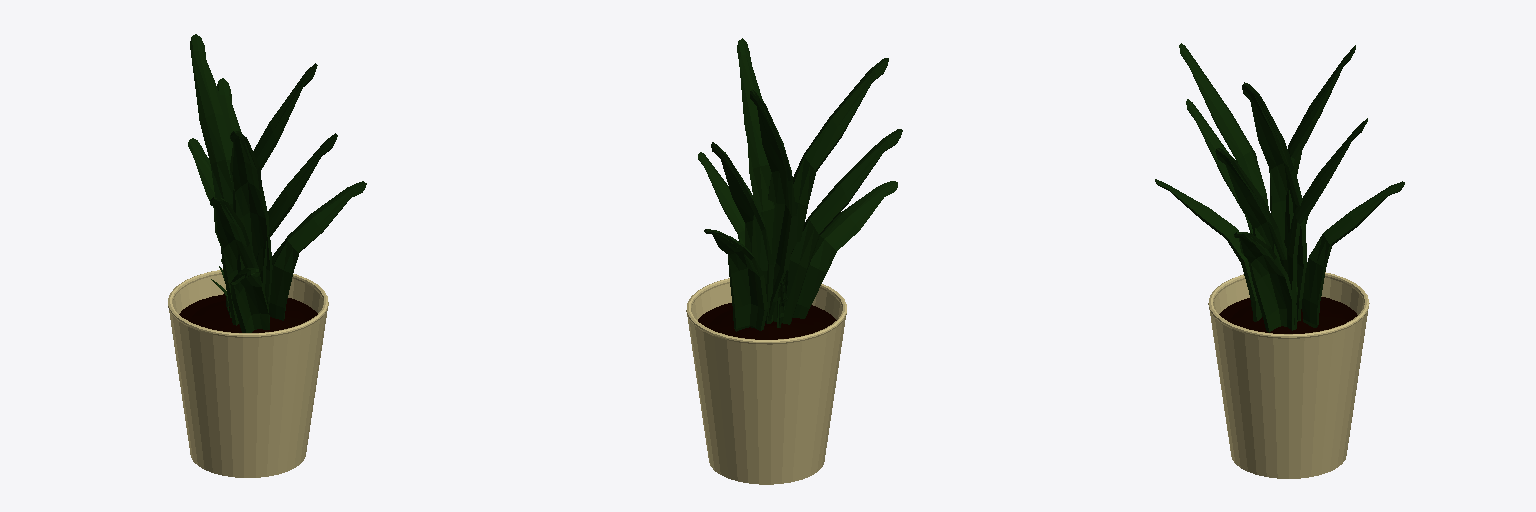
Rendered from PLANT.obj.
The picture shows the model from 3 angles: view 1: azimuth 30°, elevation 25°; view 2: azimuth 150°, elevation 25°; view 3: azimuth 270°, elevation 25°; orthographic projection.
Visible parts, largest first — view 1: Cube.003_Cube.040; view 2: Cube.003_Cube.040; view 3: Cube.003_Cube.040.
Part boxes in pixels (left/top/right/bottom): Cube.003_Cube.040: left=168, top=34, right=366, bottom=477; Cube.003_Cube.040: left=686, top=38, right=902, bottom=484; Cube.003_Cube.040: left=1155, top=43, right=1404, bottom=478.
Bounding box in the file's own units: 1.49 × 3.19 × 1.81.